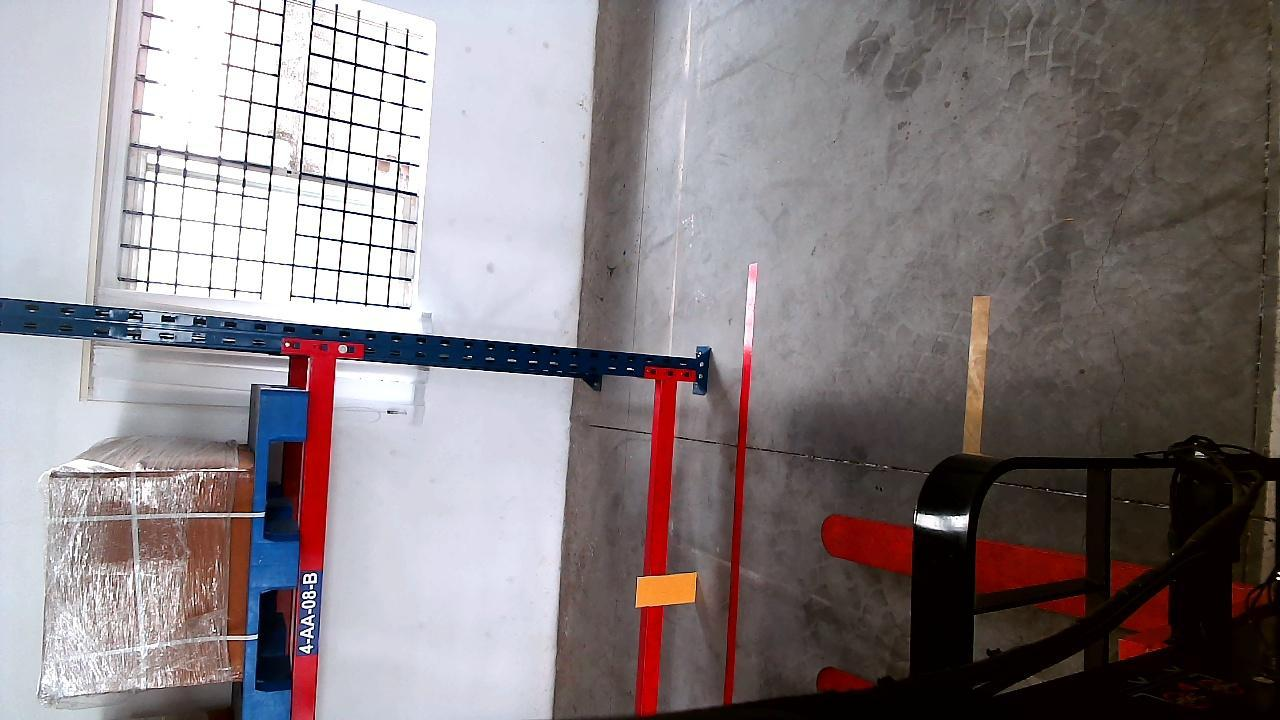red_line: (725, 264, 762, 703)
yellow_line: (967, 297, 992, 452)
